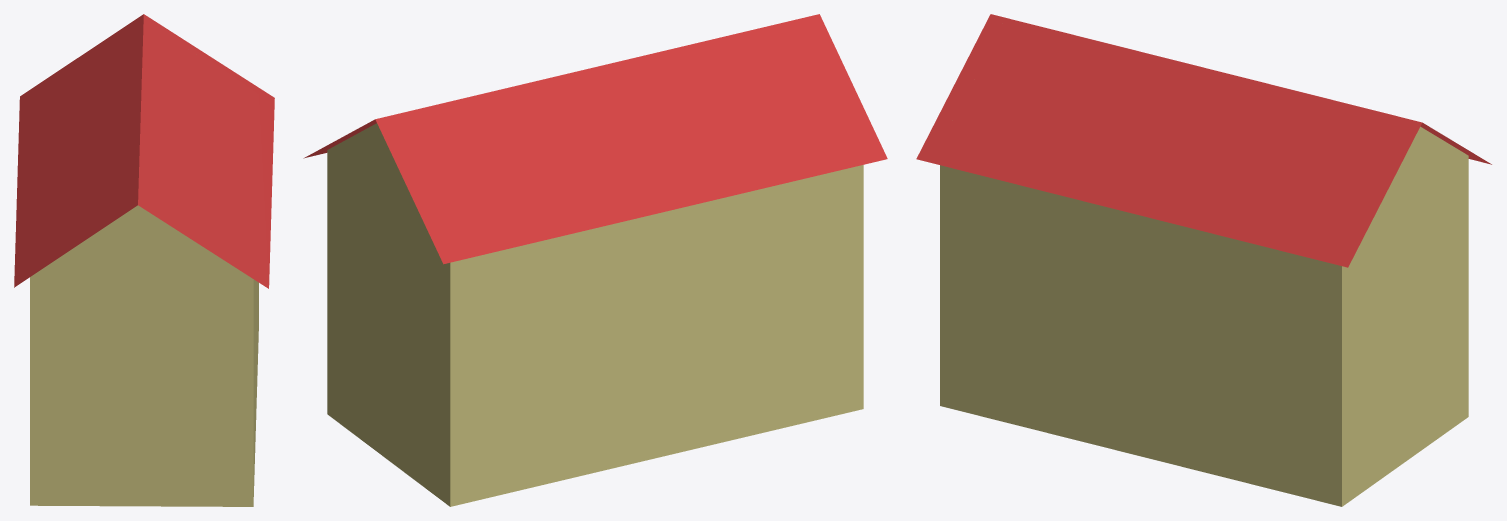
3 views of the same model, side by side, from view 1: azimuth 30°, elevation 25°; view 2: azimuth 150°, elevation 25°; view 3: azimuth 270°, elevation 25° (orthographic). The views are drawn at different scales.
Parts seen in each view (by area): view 1: group_5, group_3, group_4; view 2: group_5, group_3, group_4; view 3: group_5, group_3, group_4.
Part boxes in pixels (x1,y1,x2,y2): group_5: (30,205,258,506); group_3: (14,14,258,287); group_4: (14,14,274,288); group_5: (327,123,863,506); group_3: (303,14,887,264); group_4: (375,83,886,163); group_5: (940,126,1468,506); group_3: (940,18,1426,246); group_4: (916,14,1491,267).
Bounding box in the file's own units: 21.46 × 24.74 × 16.18.
